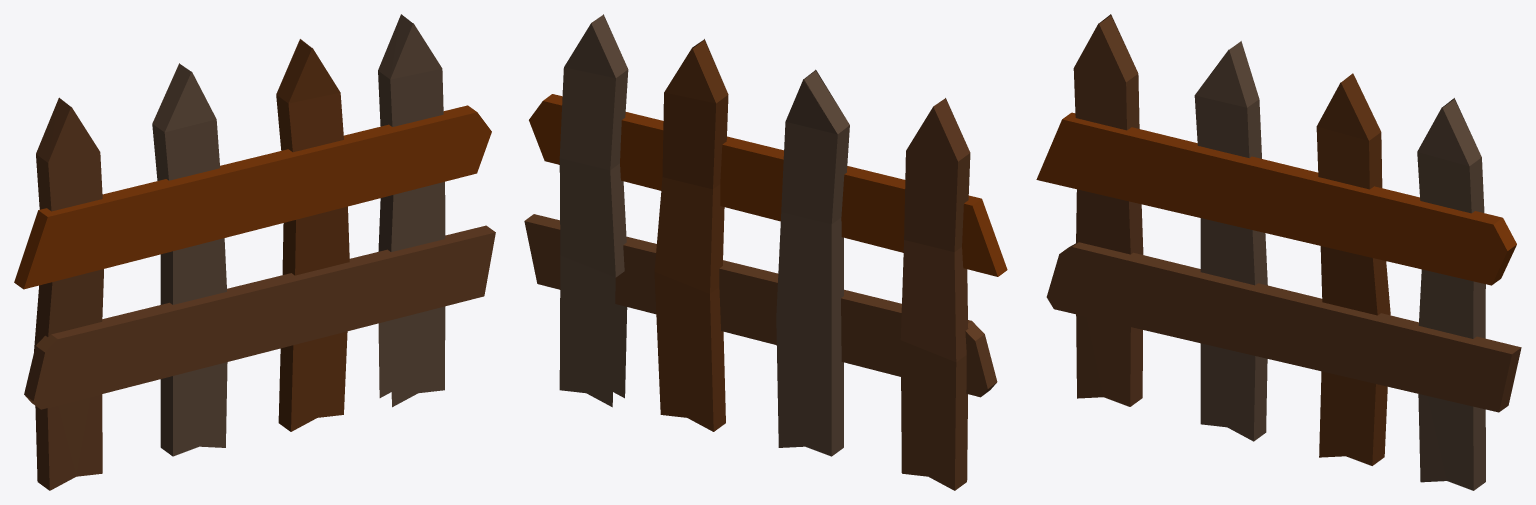
The model's file is w_barrier_fence_wood.gltf.
The picture shows the model from 3 angles, left to right: view 1: azimuth 30°, elevation 25°; view 2: azimuth 150°, elevation 25°; view 3: azimuth 330°, elevation 25°; orthographic projection.
Parts seen in each view (by area): view 1: fence_wood; view 2: fence_wood; view 3: fence_wood.
Part boxes in pixels (x1,y1,x2,y2): fence_wood: (14, 14, 495, 490); fence_wood: (524, 14, 1007, 490); fence_wood: (1036, 14, 1521, 490).
Size of the model in its own units: 0.75 by 0.5763 by 0.0663.
Materials: 1 (1 with a texture image).
